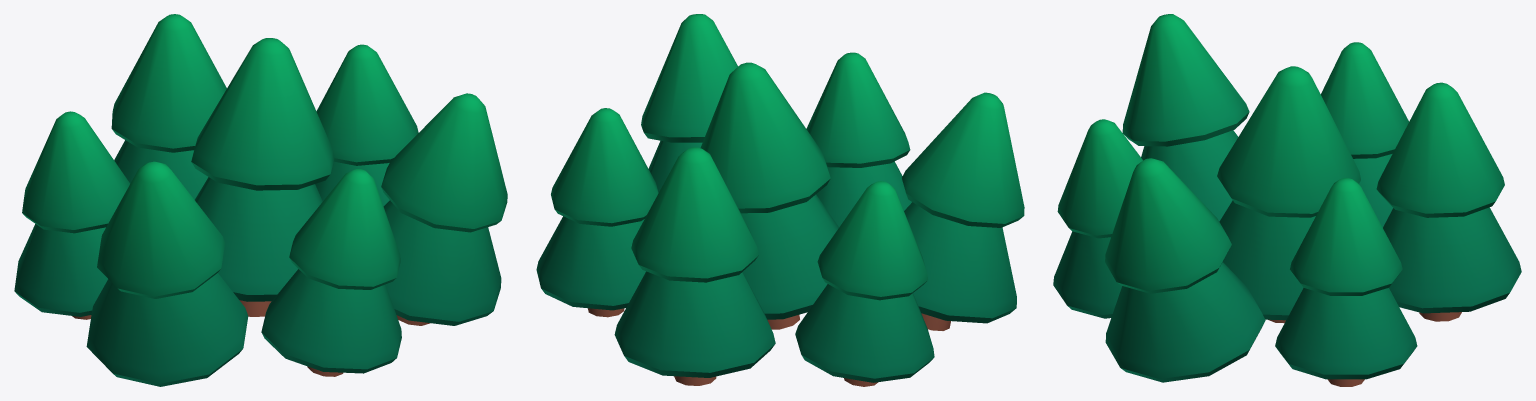
The model's file is trees_B_large.gltf.
3 views of the same model, side by side, from view 1: azimuth 30°, elevation 25°; view 2: azimuth 150°, elevation 25°; view 3: azimuth 270°, elevation 25° (orthographic). The views are drawn at different scales.
Visible parts, largest first — view 1: trees_B_large; view 2: trees_B_large; view 3: trees_B_large.
Boxes of the visible parts, box(x1,y1,x2,y2) form: trees_B_large: box(14, 14, 507, 386); trees_B_large: box(536, 14, 1024, 386); trees_B_large: box(1053, 14, 1521, 386).
Size of the model in its own units: 1.85 by 1.17 by 1.93.
1 material, 1 textured.
